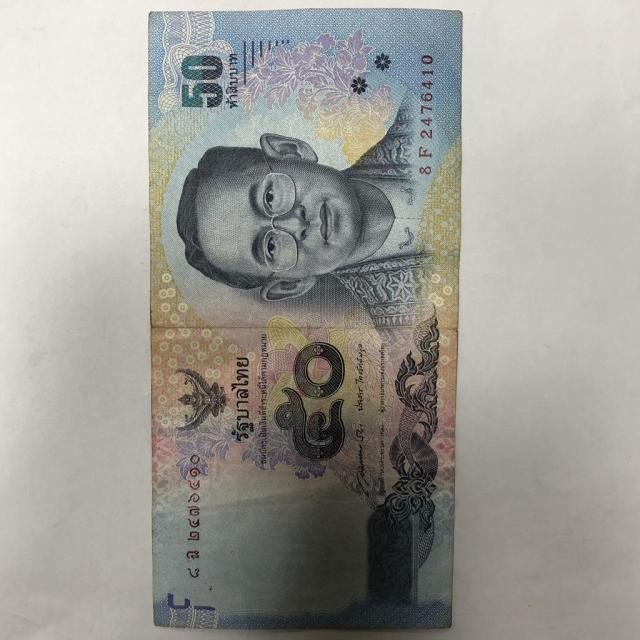THAI50: (149, 9, 461, 629)
